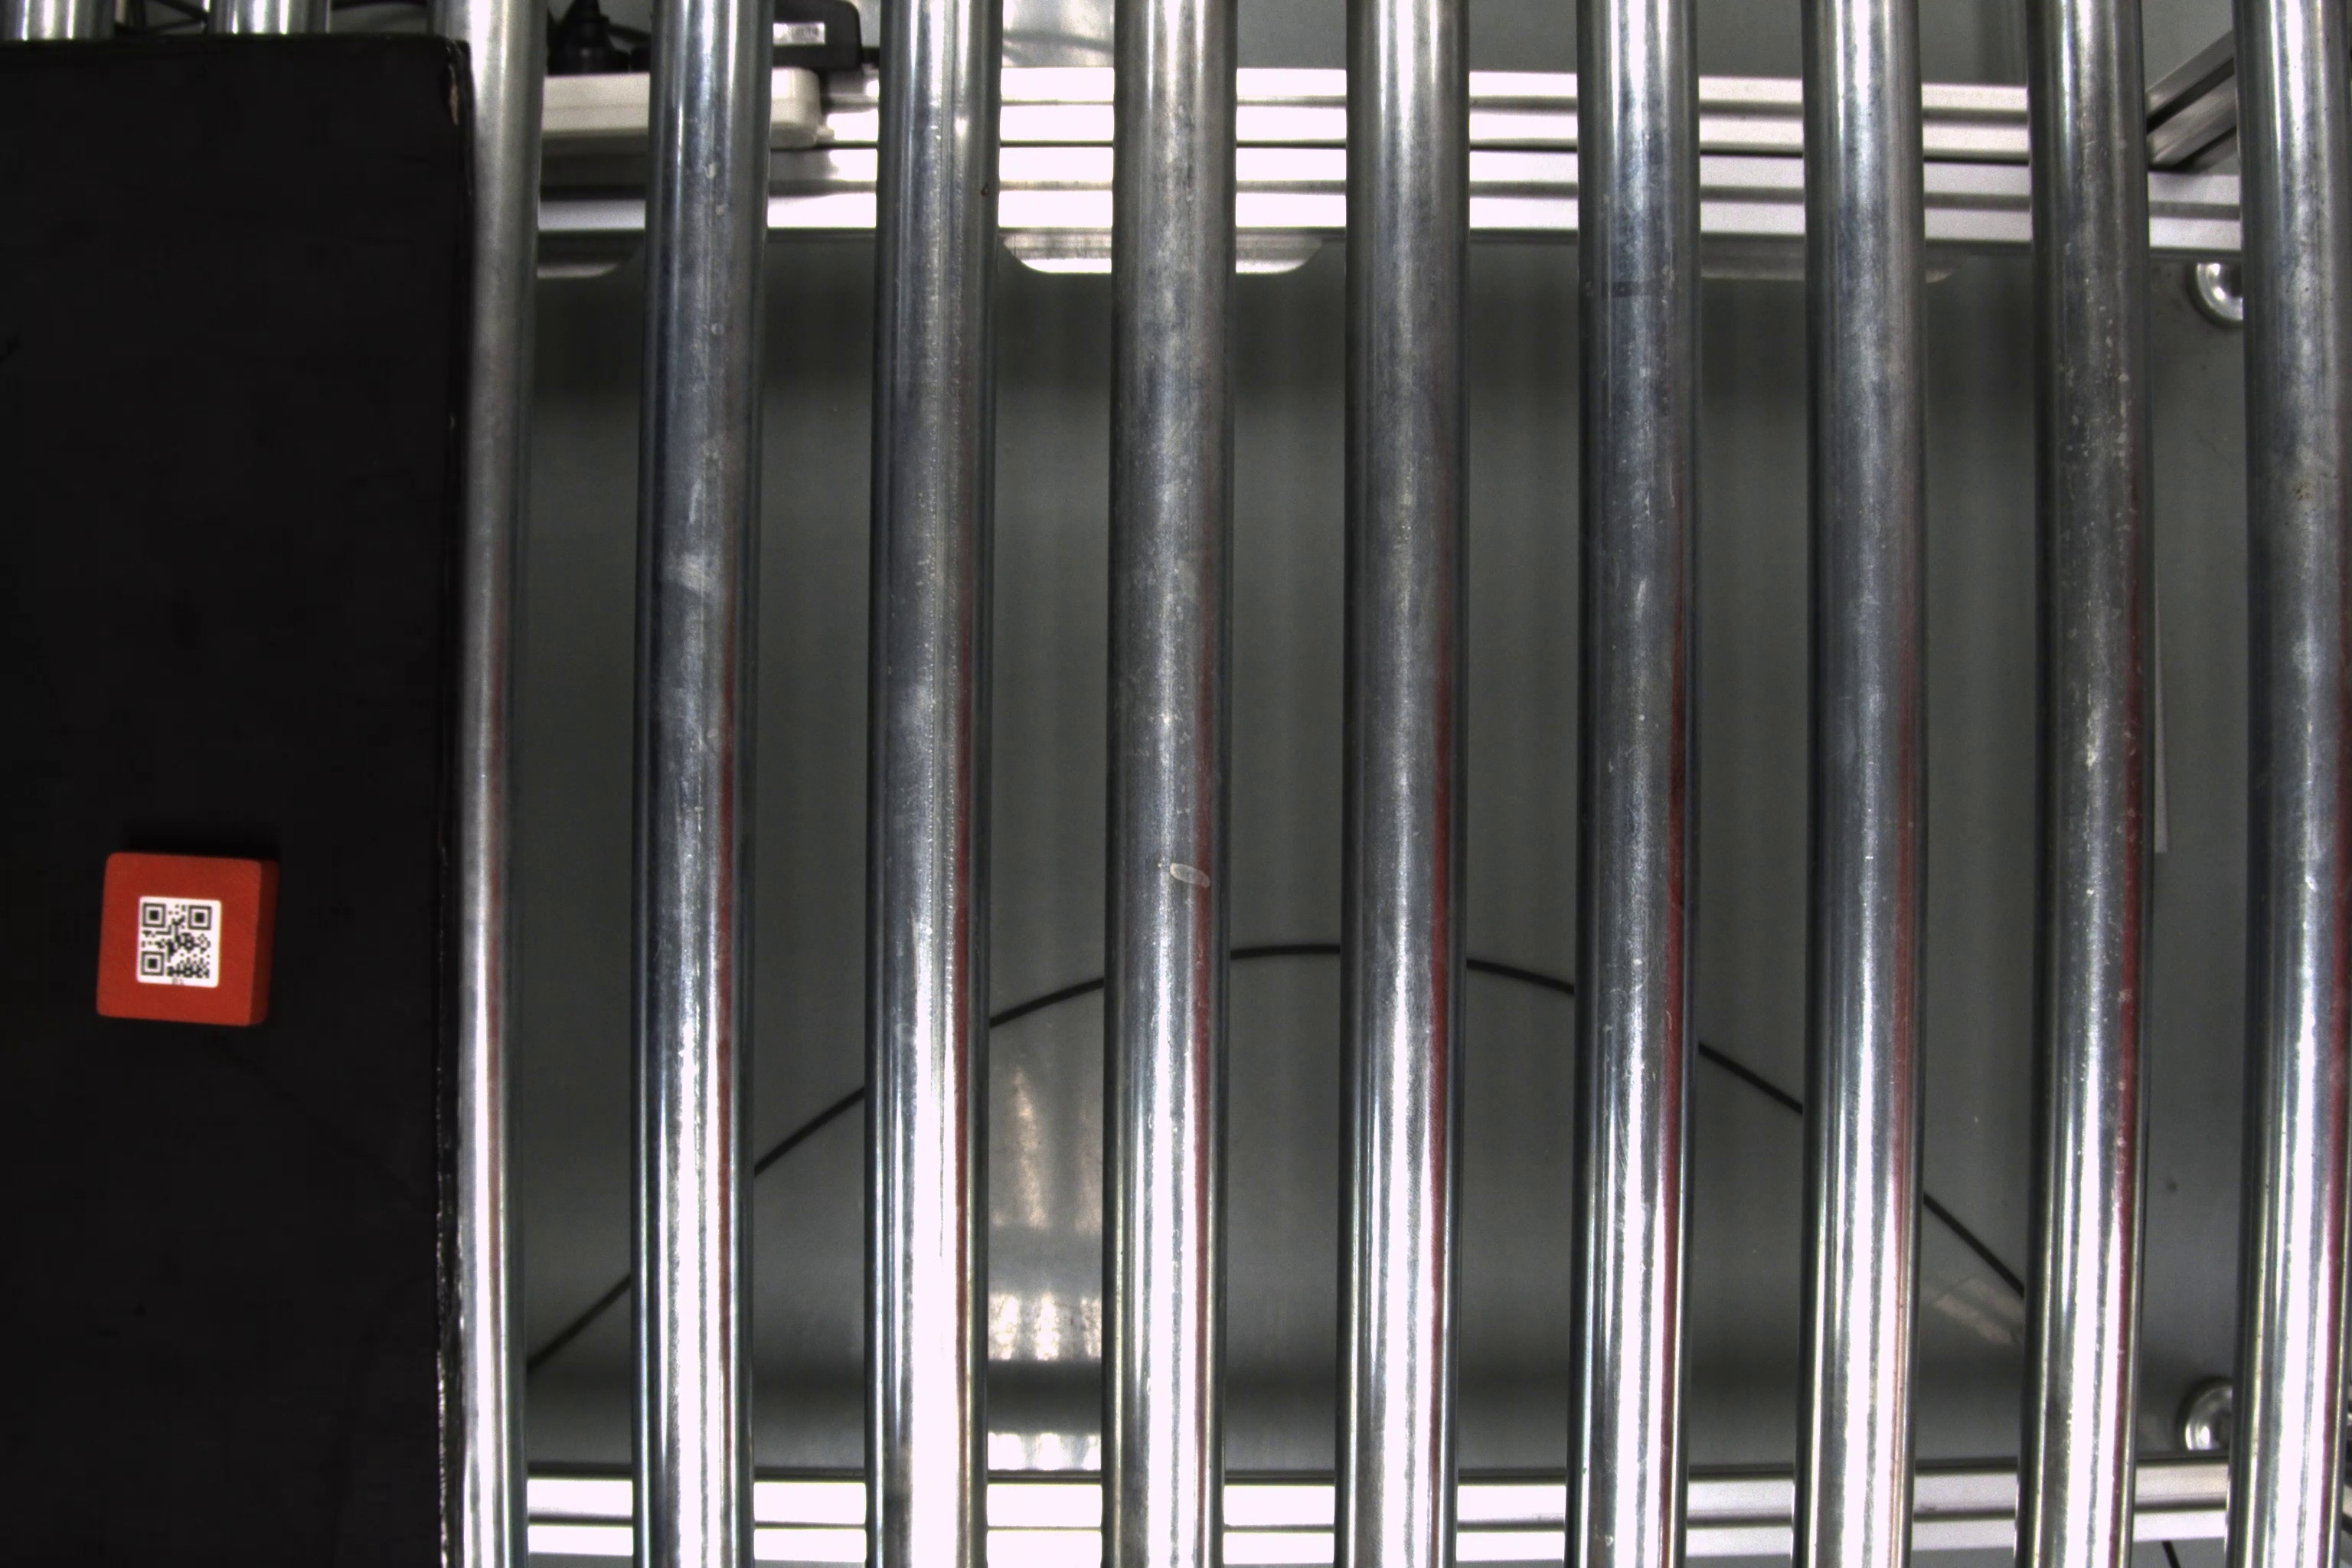wood: (87, 850, 285, 1036)
